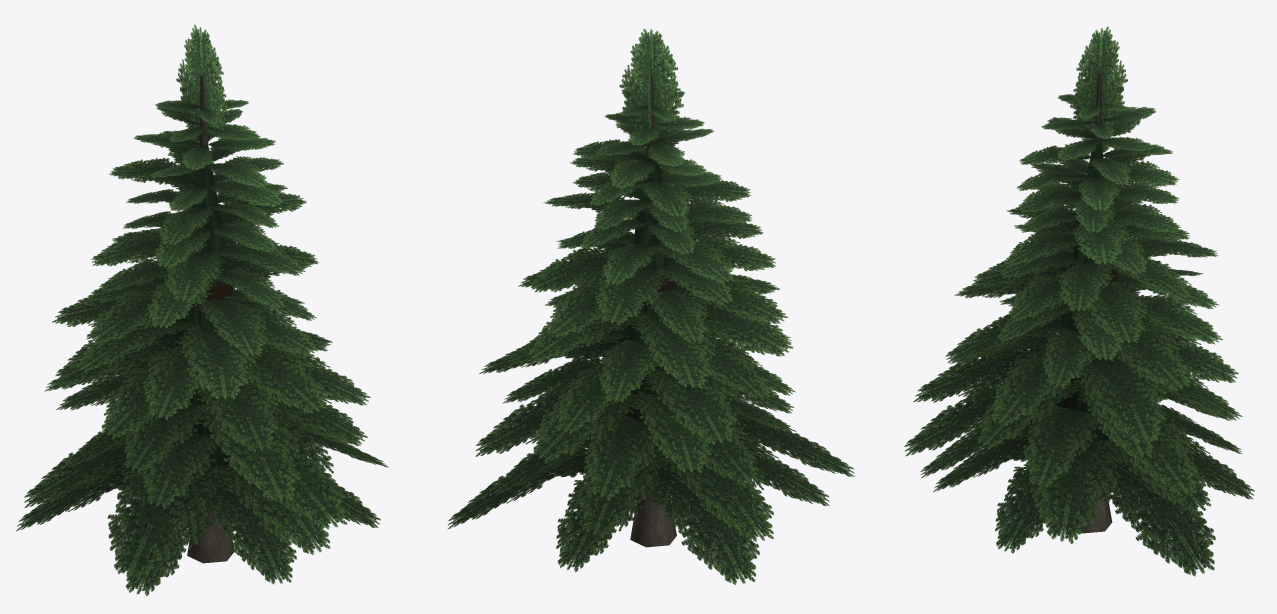
File: pine2.glb
3 views of the same model, side by side, from view 1: azimuth 30°, elevation 25°; view 2: azimuth 150°, elevation 25°; view 3: azimuth 270°, elevation 25° (orthographic). The views are drawn at different scales.
Visible parts, largest first — view 1: Tree; view 2: Tree; view 3: Tree.
Boxes of the visible parts, <box> form: Tree: <box>16,24,388,595</box>; Tree: <box>447,28,854,584</box>; Tree: <box>904,26,1254,576</box>.
Size of the model in its own units: 8.79 by 11.9 by 8.06.
2 materials, 2 textured.
